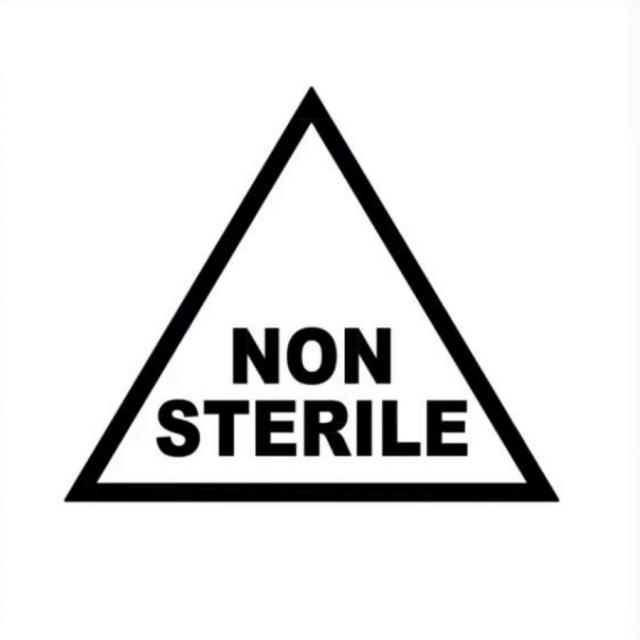Non sterile: (63, 81, 564, 502)
